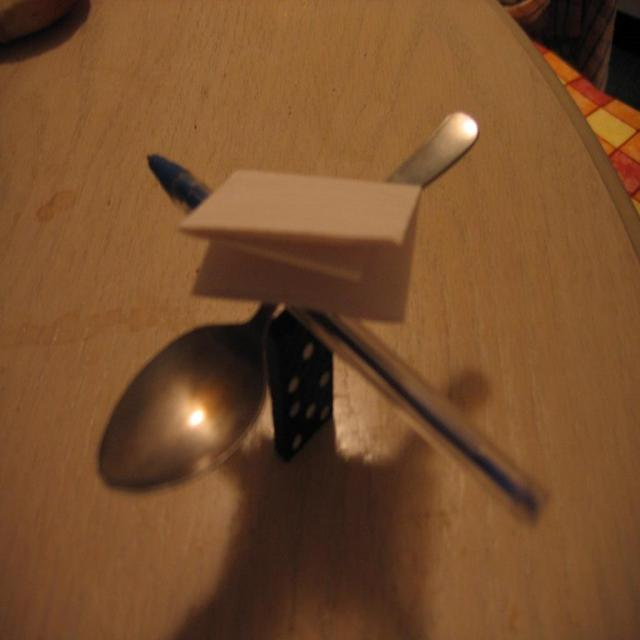Table: (57, 27, 623, 640)
